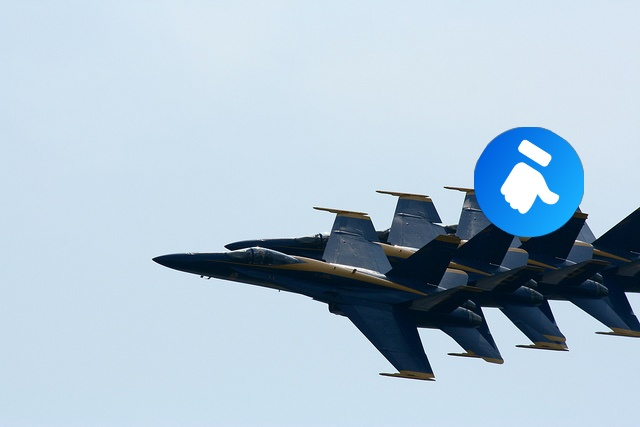like: (474, 127, 584, 237)
